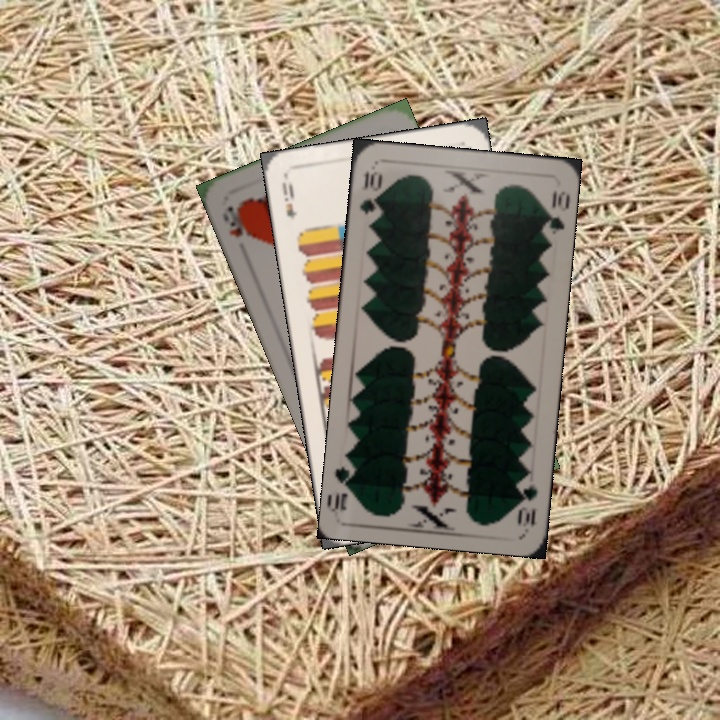E9: (277, 178, 300, 222)
G10: (513, 471, 540, 529), (356, 167, 385, 217)
HO: (218, 201, 255, 243)
